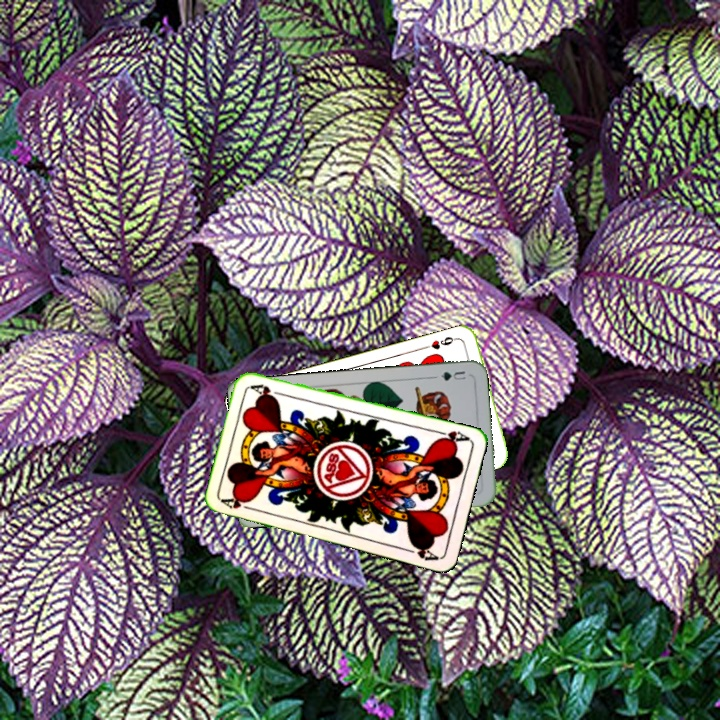GU: (437, 367, 468, 384)
H9: (420, 332, 461, 352)
HA: (431, 426, 472, 447), (218, 494, 259, 513)
